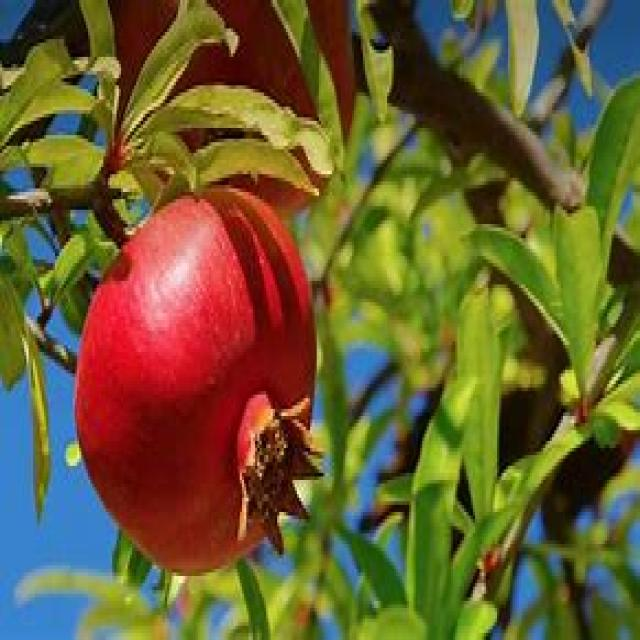Pomegranate: (73, 182, 326, 576)
